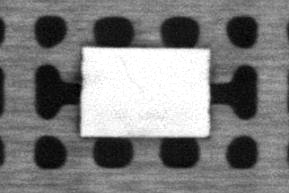DIE_CRACK: (116, 54, 145, 92)
